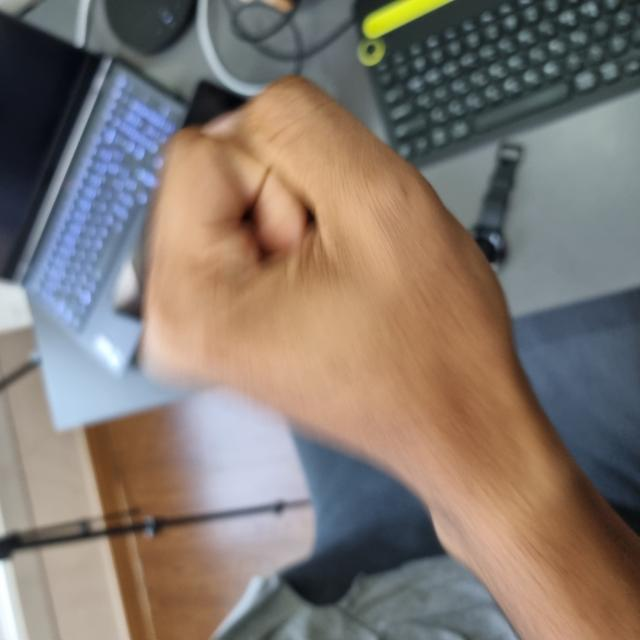Rock: (158, 147, 557, 512)
